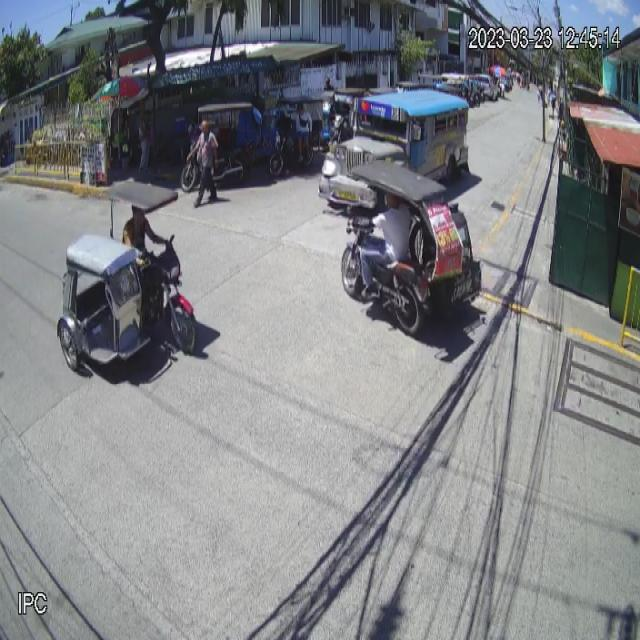Tricycle: (56, 180, 200, 378), (340, 156, 482, 338)
